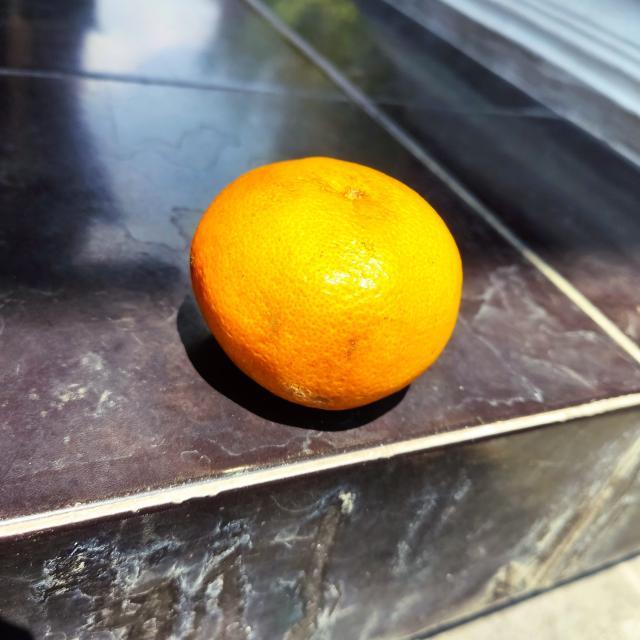orange: (185, 155, 463, 411)
